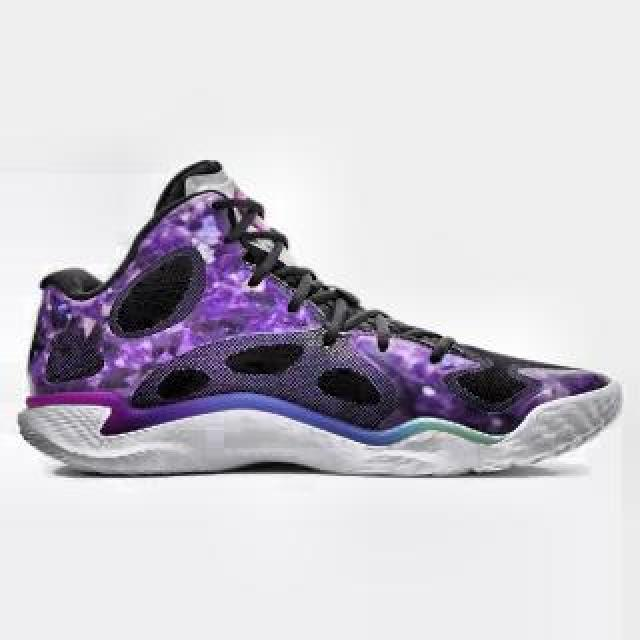shoe: (15, 158, 629, 478)
